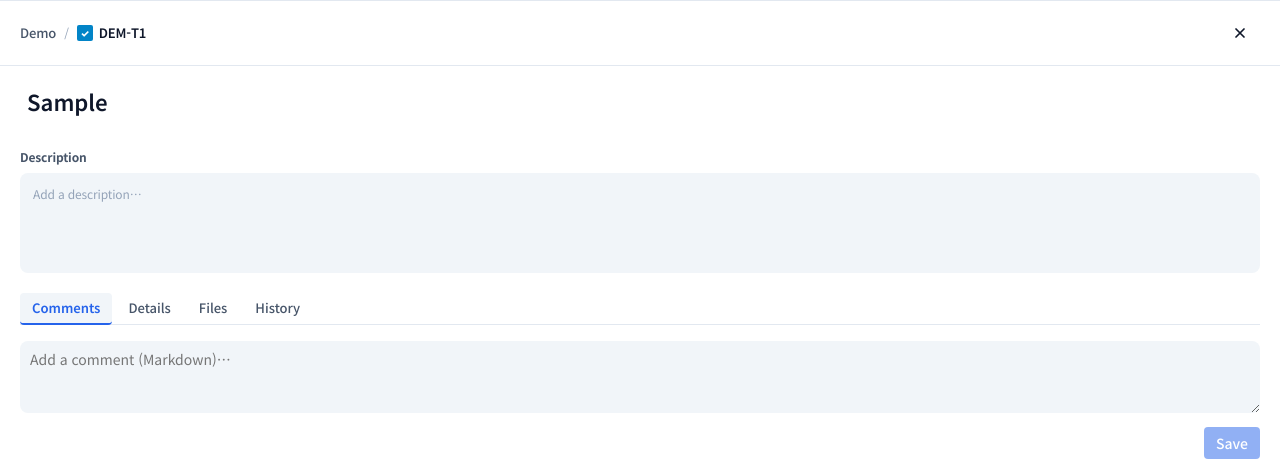
Scenario: IssuePanel activity tabs › History rows put change text before timestamp inside history-list
Click the tab "History" at (278, 309), box top-left (243, 293), bottom-right (312, 325)
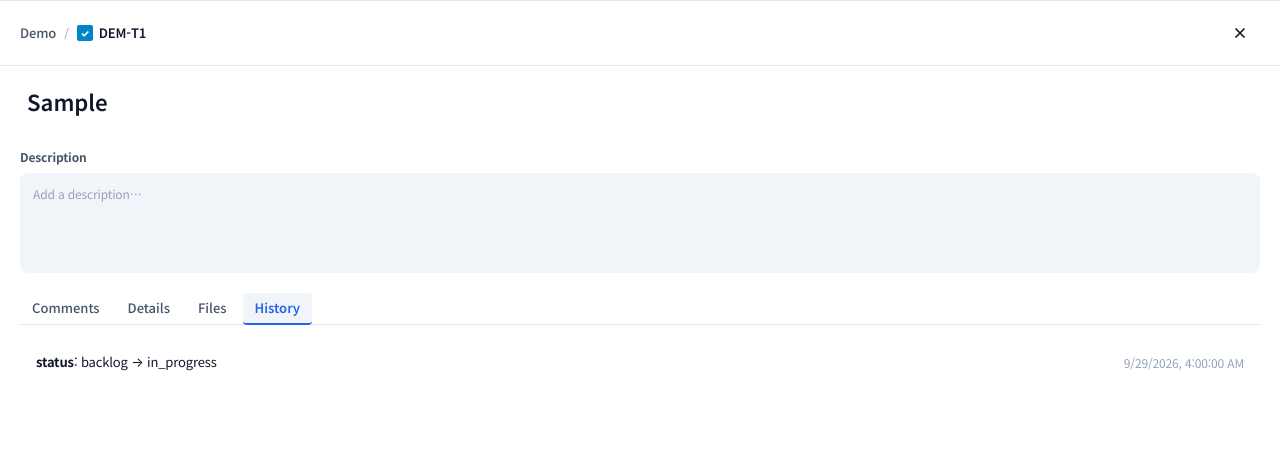
Check: the element with class "list-row" is shown, box top-left (36, 352), bottom-right (1244, 371)
